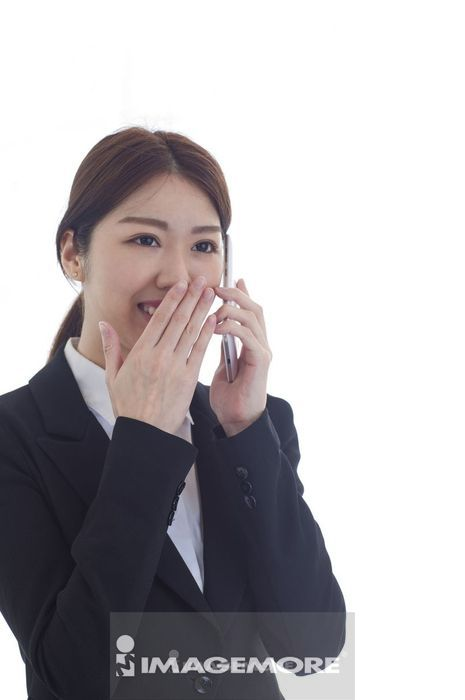phone: (217, 230, 241, 385)
talk: (103, 207, 271, 419)
